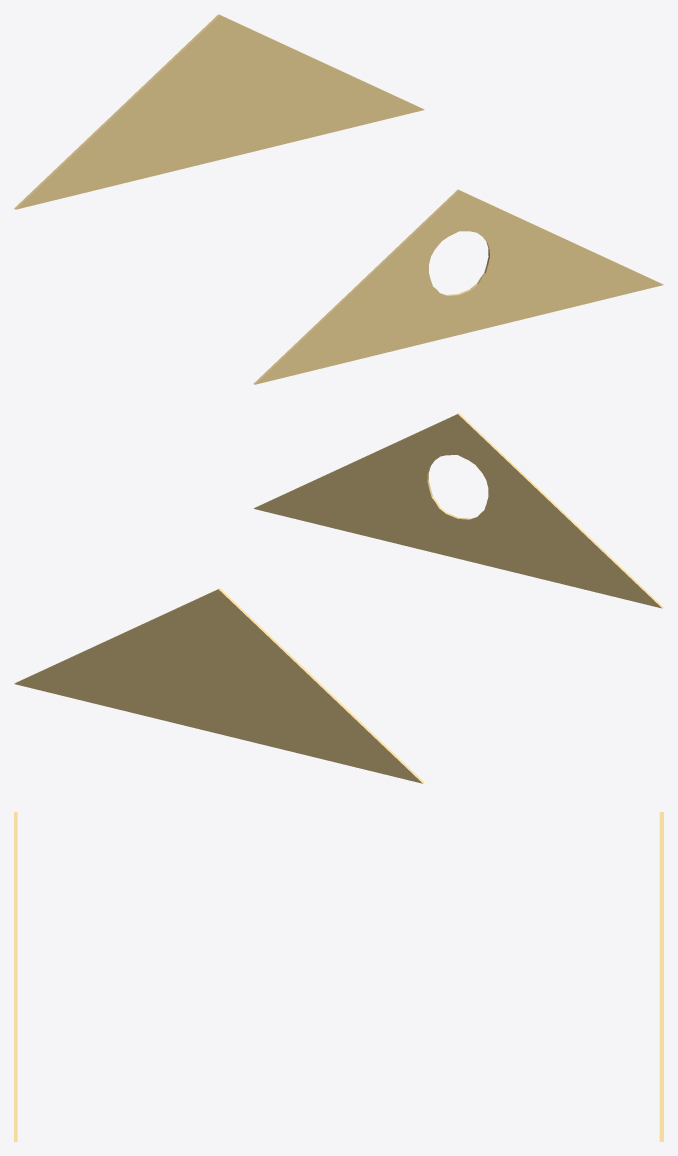
The model's file is WALLS 1.fbx.
3 renders of one model, top to bottom at view 1: azimuth 30°, elevation 25°; view 2: azimuth 150°, elevation 25°; view 3: azimuth 270°, elevation 25°, orthographic. The views are drawn at different scales.
Visible parts, largest first — view 1: ROOF; view 2: ROOF; view 3: ROOF.
Boxes of the visible parts, left/top/right/bottom form: ROOF: left=14, top=14, right=663, bottom=384; ROOF: left=14, top=413, right=663, bottom=783; ROOF: left=14, top=812, right=663, bottom=1141.
Size of the model in its own units: 596 by 201 by 608.
